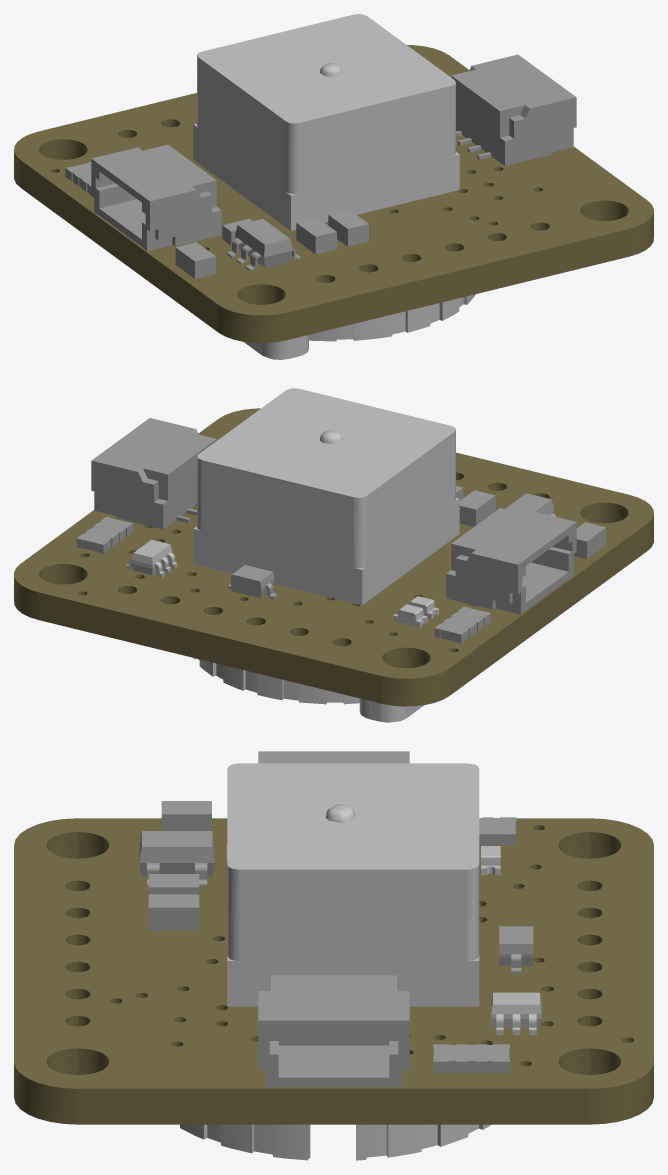
The model's file is ada-4415.glb.
3 renders of one model, top to bottom at view 1: azimuth 30°, elevation 25°; view 2: azimuth 150°, elevation 25°; view 3: azimuth 270°, elevation 25°, orthographic. The views are drawn at different scales.
Visible parts, largest first — view 1: 0.16666666666666666_0.16666666666666666_0.08333333333333333_, 0.5833333333333334_0.5833333333333334_0.5833333333333334_0.8, 0.3333333333333333_0.3333333333333333_0.3333333333333333_0; view 2: 0.16666666666666666_0.16666666666666666_0.08333333333333333_, 0.5833333333333334_0.5833333333333334_0.5833333333333334_0.8, 0.3333333333333333_0.3333333333333333_0.3333333333333333_0, 0.5_0.5_0.5_0.85; view 3: 0.16666666666666666_0.16666666666666666_0.08333333333333333_, 0.5833333333333334_0.5833333333333334_0.5833333333333334_0.8, 0.3333333333333333_0.3333333333333333_0.3333333333333333_0, 0.5_0.5_0.5_0.85.
Boxes of the visible parts, box(x1,y1,x2,y2) form: 0.16666666666666666_0.16666666666666666_0.08333333333333333_: box(14, 45, 653, 343); 0.5833333333333334_0.5833333333333334_0.5833333333333334_0.8: box(193, 14, 475, 359); 0.3333333333333333_0.3333333333333333_0.3333333333333333_0: box(65, 54, 576, 278); 0.16666666666666666_0.16666666666666666_0.08333333333333333_: box(14, 408, 653, 706); 0.5833333333333334_0.5833333333333334_0.5833333333333334_0.8: box(193, 388, 459, 722); 0.3333333333333333_0.3333333333333333_0.3333333333333333_0: box(76, 418, 606, 643); 0.5_0.5_0.5_0.85: box(126, 539, 177, 577); 0.16666666666666666_0.16666666666666666_0.08333333333333333_: box(14, 818, 653, 1124); 0.5833333333333334_0.5833333333333334_0.5833333333333334_0.8: box(180, 763, 500, 1160); 0.3333333333333333_0.3333333333333333_0.3333333333333333_0: box(139, 751, 533, 1087); 0.5_0.5_0.5_0.85: box(491, 992, 541, 1034).
Size of the model in its own units: 2.54 by 1.2 by 2.54.
